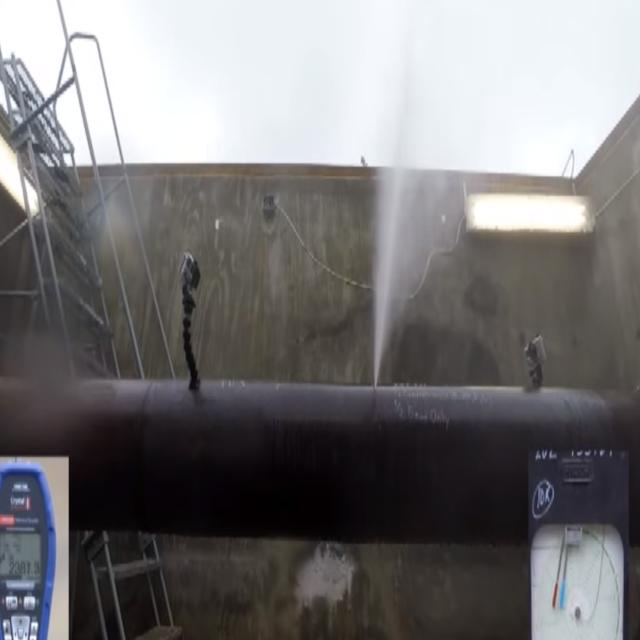leak: (375, 169, 429, 390)
